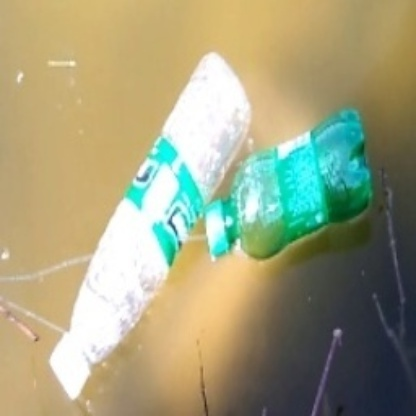bottle: (205, 113, 378, 264)
